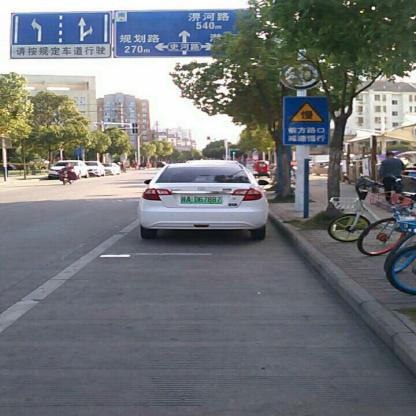lp: (180, 194, 223, 204)
